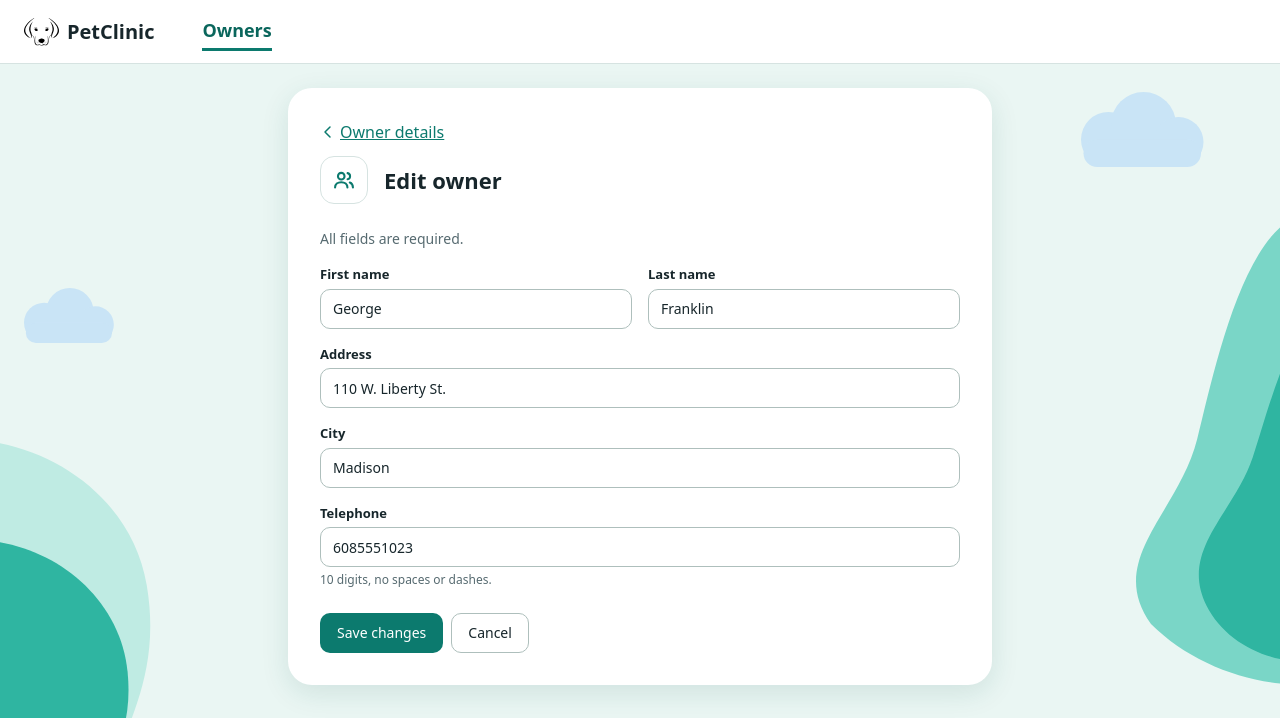
Scenario: EditOwnerPage › PUTs the trimmed values, then shows the owner details
Replace the text in the field labelled "City" with "  Verona ": (640, 468) left=320, top=448, right=960, bottom=488
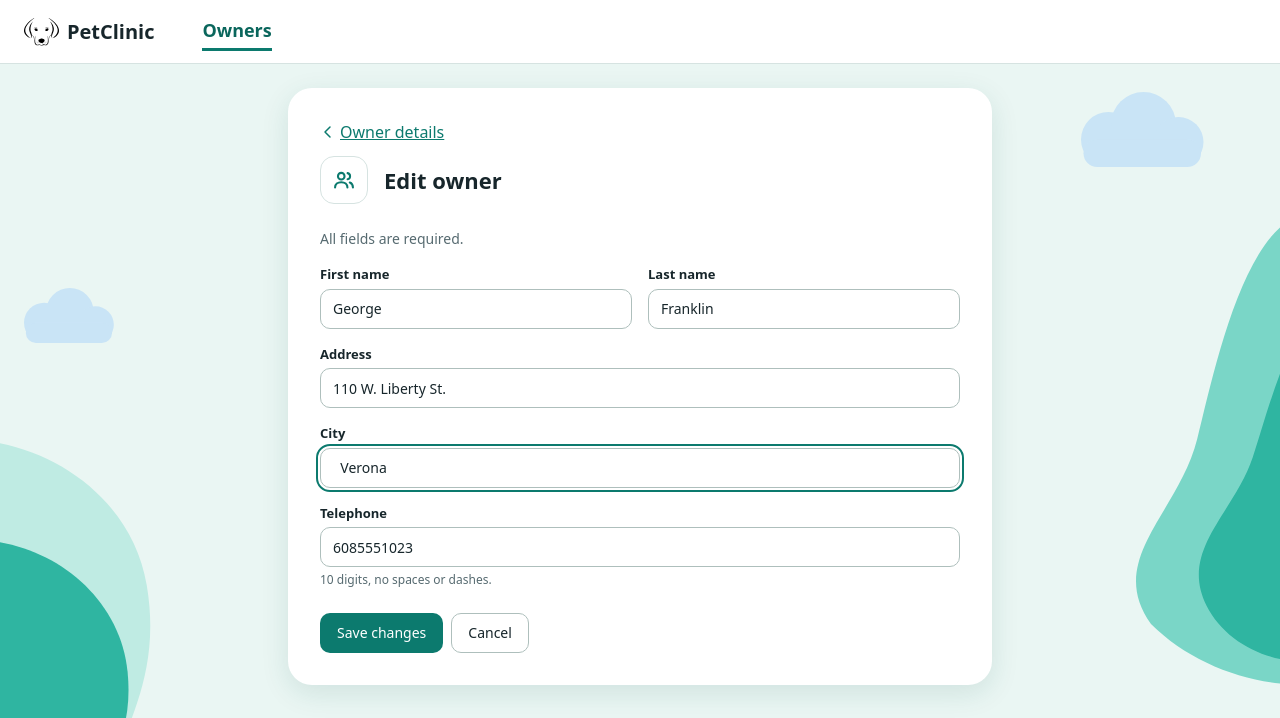
Click the button "Save changes": (382, 633) left=320, top=613, right=443, bottom=653
(page scrolled)
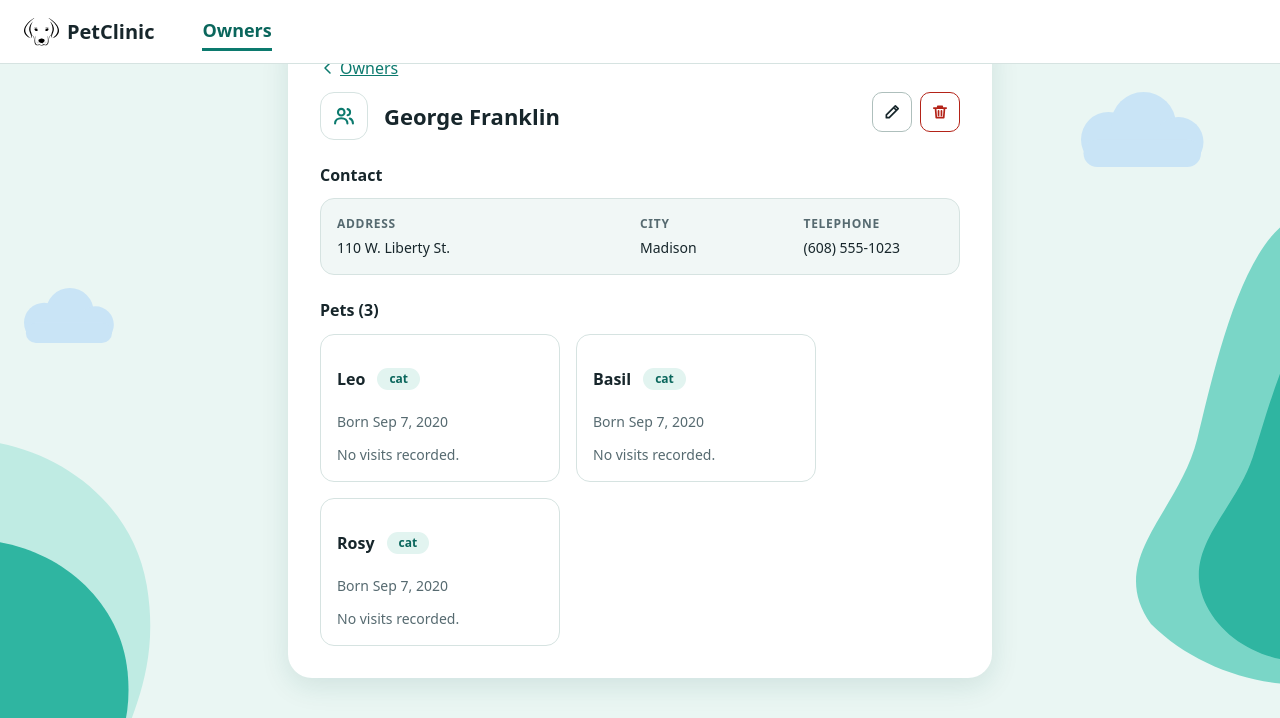
Now the heading "George Franklin" is shown, box left=384, top=102, right=560, bottom=130
